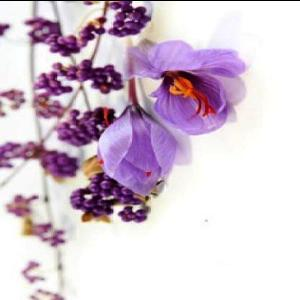Saffron: (130, 42, 241, 134), (97, 102, 176, 194)
